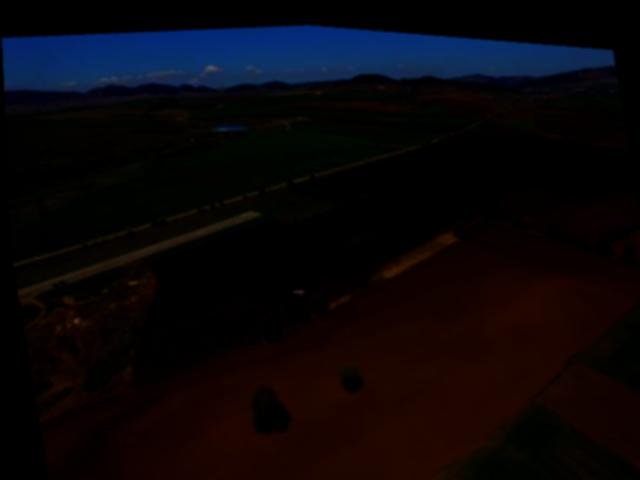uav: (286, 274, 307, 299)
